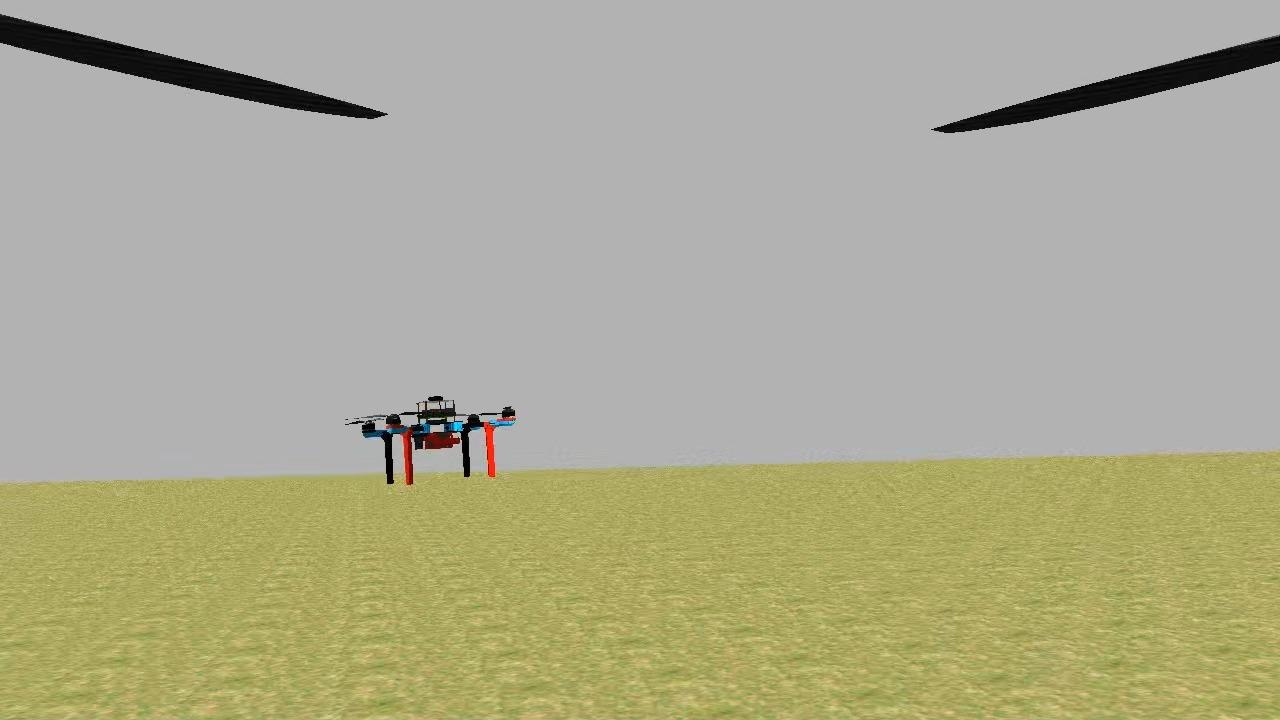UAV: (356, 386, 523, 488)
